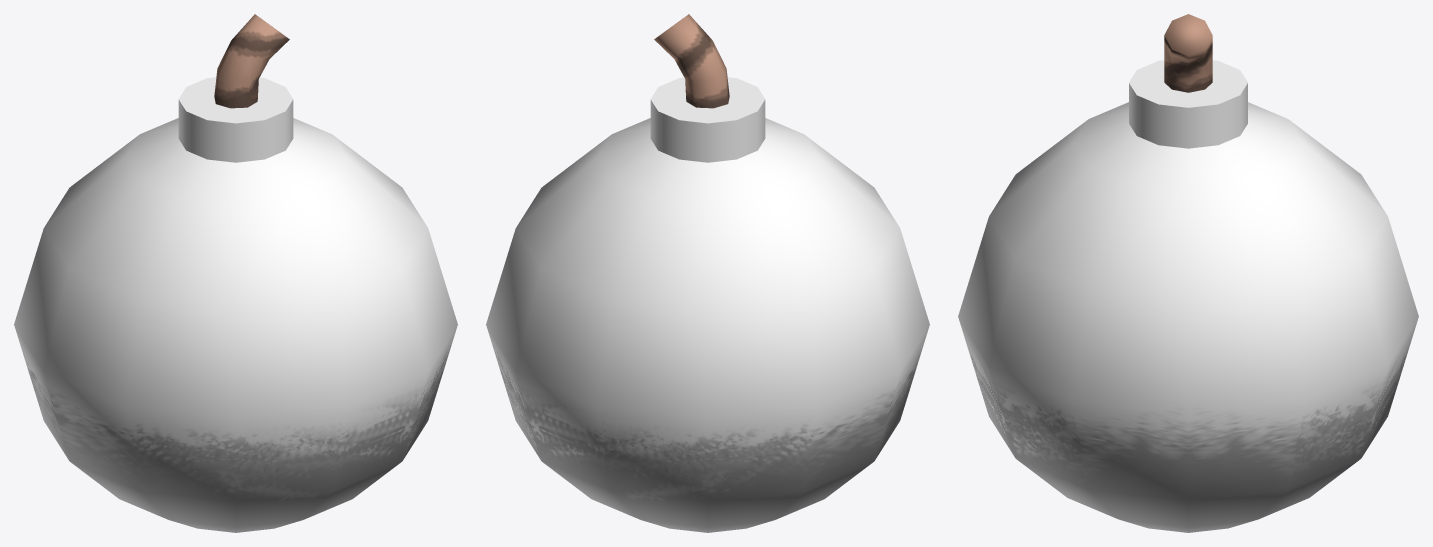
The model's file is SM_Bomb.fbx.
3 renders of one model, left to right at view 1: azimuth 30°, elevation 25°; view 2: azimuth 150°, elevation 25°; view 3: azimuth 270°, elevation 25°, orthographic. The views are drawn at different scales.
Visible parts, largest first — view 1: Bomb; view 2: Bomb; view 3: Bomb.
Boxes of the visible parts, x1,y1,x2,y2 form: Bomb: [14, 14, 457, 532]; Bomb: [486, 14, 929, 532]; Bomb: [958, 14, 1418, 532].
Bounding box in the file's own units: 200 × 246 × 200.
